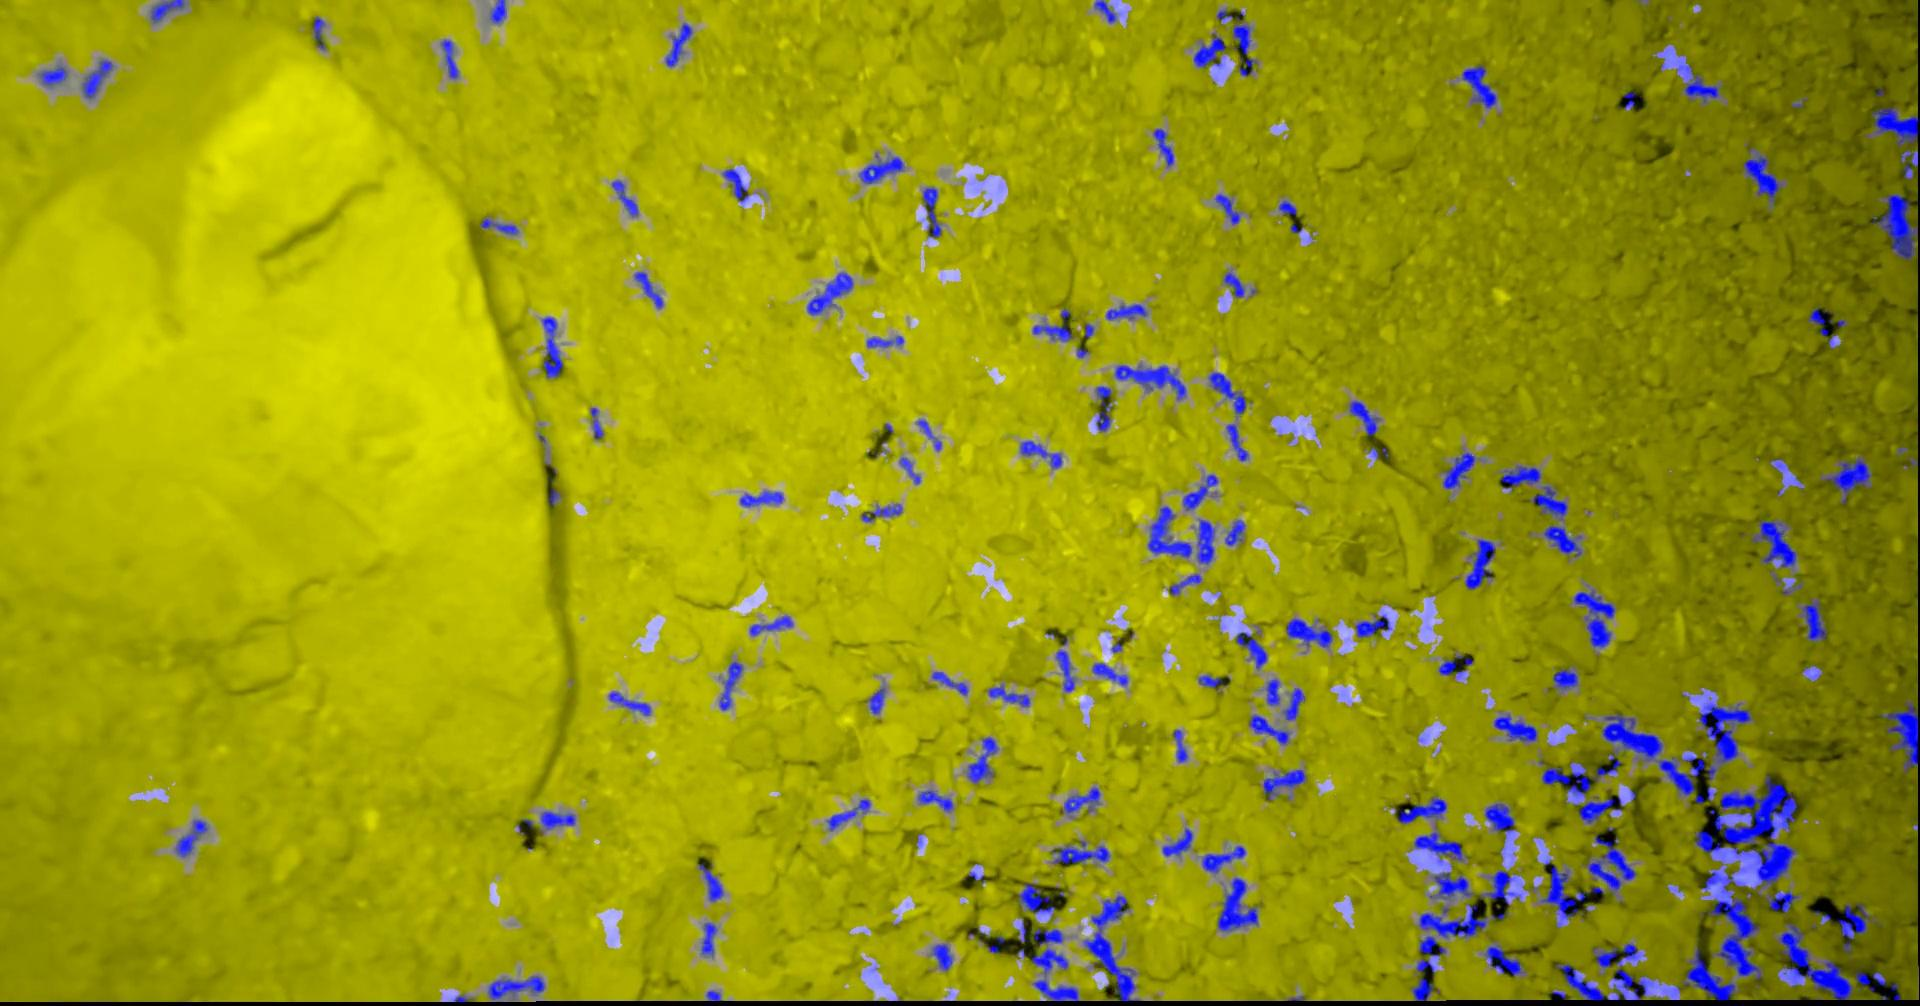ant: (1542, 751, 1620, 795), (1542, 865, 1603, 920), (1592, 942, 1650, 1000), (1586, 835, 1636, 894), (1418, 904, 1505, 937), (1683, 946, 1735, 1000), (1820, 456, 1870, 503), (1114, 365, 1185, 398), (1573, 589, 1614, 647), (1147, 506, 1191, 558), (1217, 876, 1257, 931), (1751, 520, 1796, 567), (1742, 152, 1782, 205), (1556, 963, 1608, 1000), (806, 272, 852, 314), (1837, 903, 1876, 953), (1870, 107, 1919, 145), (1208, 372, 1244, 417), (1677, 64, 1718, 102), (1464, 539, 1495, 589), (1462, 64, 1496, 107), (1413, 832, 1462, 861), (1479, 870, 1520, 904), (1051, 840, 1109, 864), (1396, 796, 1446, 823), (825, 799, 870, 829), (968, 737, 997, 782), (541, 316, 563, 377), (1032, 307, 1072, 340), (1232, 22, 1256, 75), (1286, 619, 1332, 647), (1263, 768, 1305, 799), (488, 976, 543, 998), (1182, 474, 1217, 511), (1578, 795, 1623, 823), (1248, 714, 1289, 744), (1543, 525, 1581, 556), (1201, 845, 1244, 873), (1807, 307, 1836, 348), (858, 156, 903, 183), (1531, 486, 1567, 520), (1020, 439, 1062, 467), (175, 819, 207, 856), (1484, 945, 1523, 976), (83, 58, 112, 98), (719, 661, 742, 710), (1443, 452, 1474, 488), (1429, 873, 1473, 898), (665, 23, 691, 66), (1493, 715, 1537, 741), (1192, 33, 1224, 67), (1236, 633, 1266, 668), (1017, 883, 1054, 912), (1484, 803, 1514, 838), (1500, 465, 1540, 490), (634, 271, 662, 307), (1032, 979, 1078, 1001), (1030, 948, 1067, 974), (1802, 601, 1826, 641), (610, 691, 650, 715), (922, 187, 941, 238), (697, 862, 723, 901), (1349, 401, 1378, 434), (988, 683, 1029, 706), (611, 180, 637, 215), (1063, 788, 1098, 812), (1162, 828, 1192, 856), (1225, 423, 1248, 460), (723, 168, 747, 202), (749, 616, 792, 635), (1092, 662, 1128, 685), (932, 671, 968, 694), (1694, 829, 1724, 856), (1354, 615, 1390, 636), (1153, 128, 1173, 166), (1196, 520, 1214, 563), (1765, 890, 1799, 912), (1215, 193, 1239, 224), (916, 419, 940, 450), (1057, 650, 1074, 691), (917, 790, 952, 810), (150, 0, 183, 22), (1283, 687, 1304, 719), (441, 39, 458, 77), (1096, 386, 1111, 431), (1437, 655, 1473, 674), (540, 810, 575, 829), (861, 504, 902, 521), (1170, 573, 1200, 594), (1105, 304, 1145, 319), (1854, 970, 1884, 991), (1411, 977, 1437, 1000), (739, 492, 782, 506), (932, 942, 952, 970), (480, 218, 517, 234), (1900, 149, 1919, 178), (1223, 272, 1244, 297), (1032, 927, 1063, 945), (1418, 935, 1445, 955), (899, 457, 919, 483), (1552, 668, 1577, 688), (701, 922, 716, 955), (1225, 520, 1244, 545), (41, 67, 66, 85), (1173, 729, 1187, 761), (1095, 0, 1115, 22), (866, 335, 903, 347), (869, 687, 884, 713), (489, 0, 505, 23), (590, 406, 602, 439), (312, 17, 324, 48), (1197, 674, 1223, 688), (1265, 680, 1279, 705), (987, 935, 1004, 953), (1217, 10, 1243, 22), (1277, 199, 1297, 215), (1368, 446, 1388, 459), (1415, 959, 1434, 972), (1623, 91, 1634, 108), (547, 488, 557, 506), (706, 989, 721, 1001), (1084, 323, 1093, 338)
